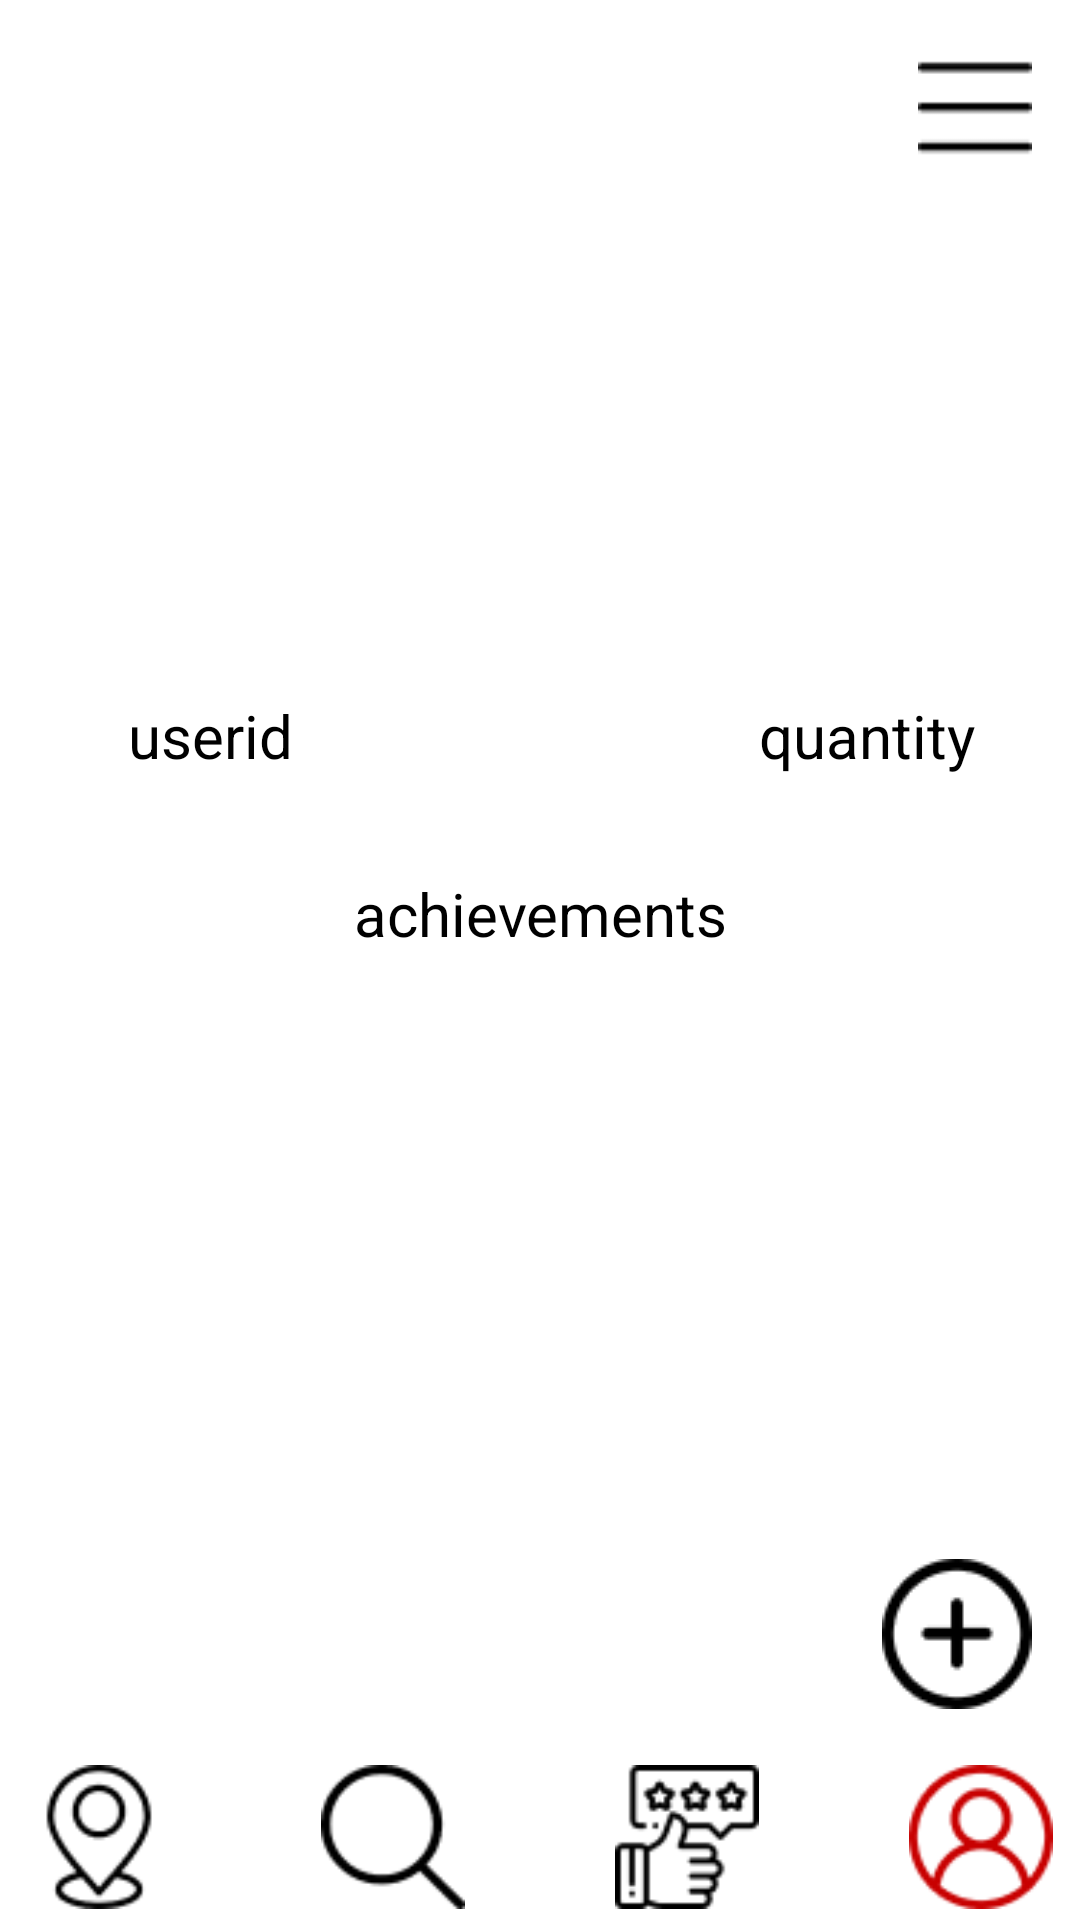

Icons on this 1080px×1920px Android screen, each with its box as (x1, y1, x2, y2):
add: (882, 1559, 1032, 1709)
free location pin: (46, 1765, 152, 1909)
hamburger: (918, 61, 1032, 154)
review: (615, 1765, 759, 1909)
search interface symbol: (321, 1765, 465, 1909)
user 1a: (909, 1765, 1053, 1909)
